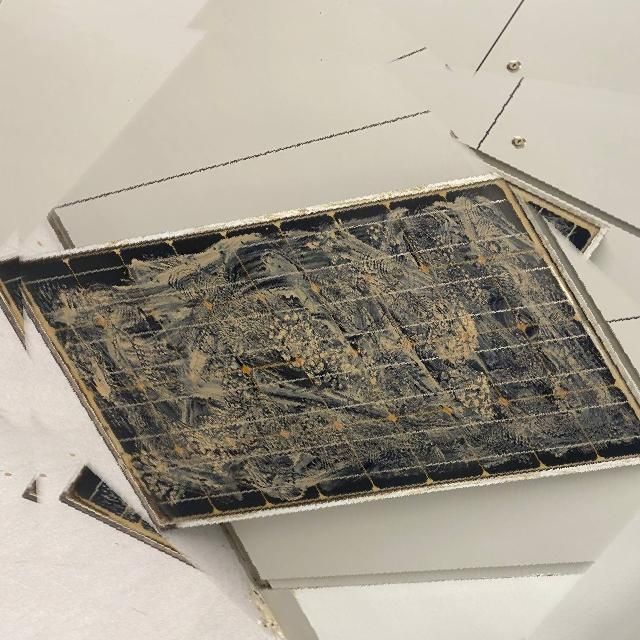Anomaly Solar Panel: (13, 184, 640, 527), (16, 184, 640, 524)
Surface Contaminant: (38, 190, 639, 504)
